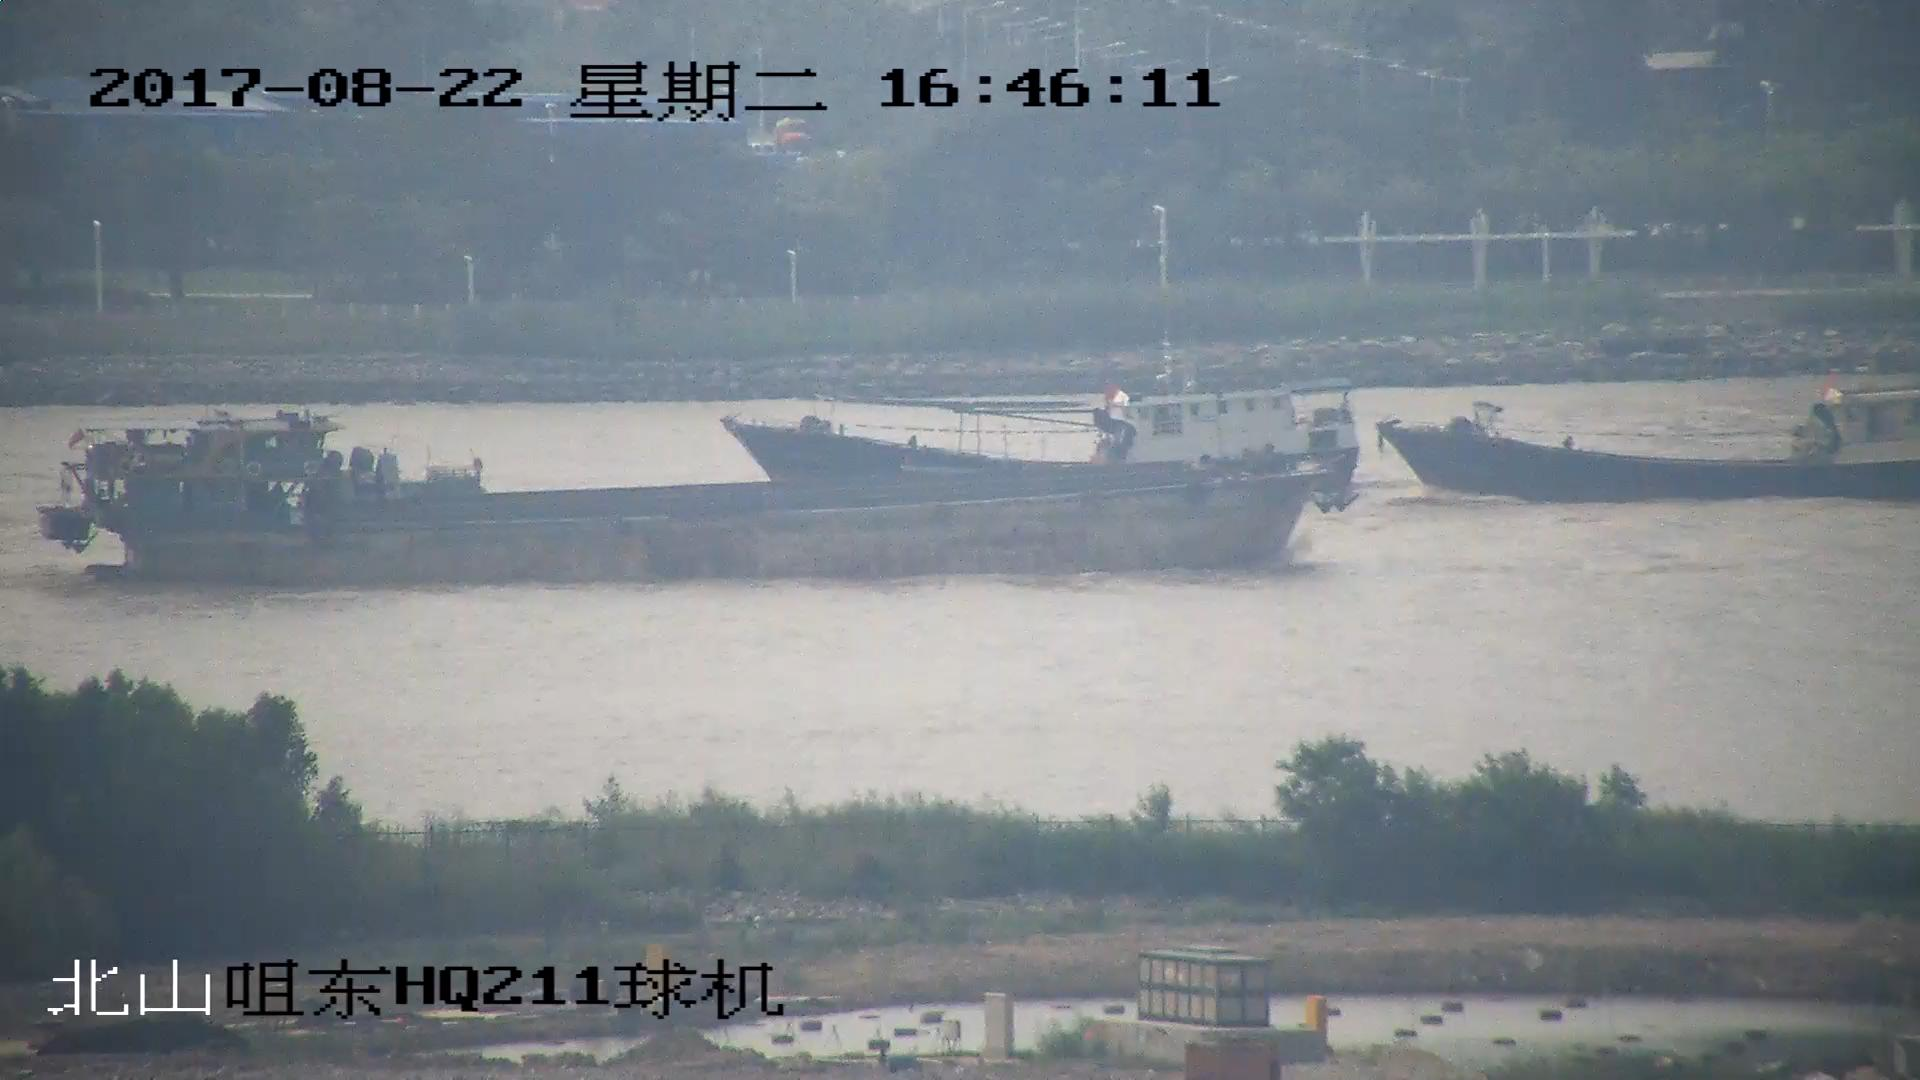bulk cargo carrier: (38, 416, 1338, 591)
fishing boat: (723, 382, 1363, 518), (1385, 390, 1920, 506)
